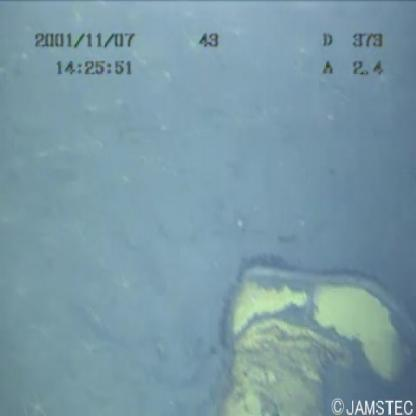Rác: (213, 245, 416, 416)
